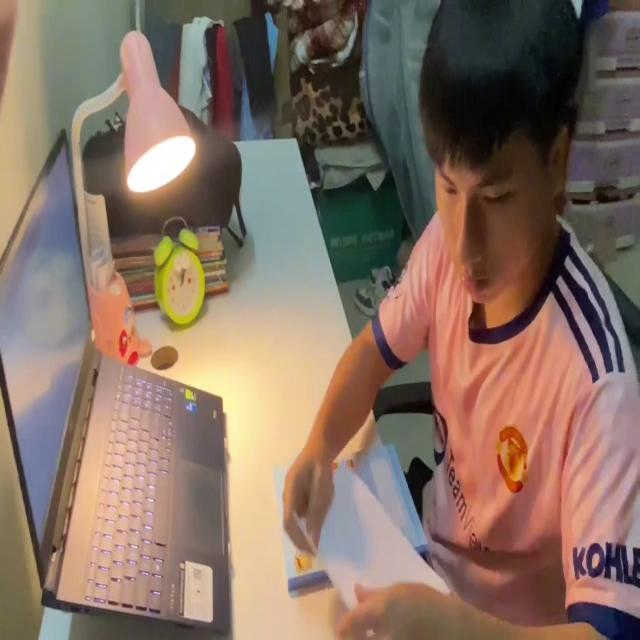book: (300, 452, 454, 632), (271, 440, 433, 588)
laptop: (0, 117, 236, 639)
student: (281, 0, 640, 640)
